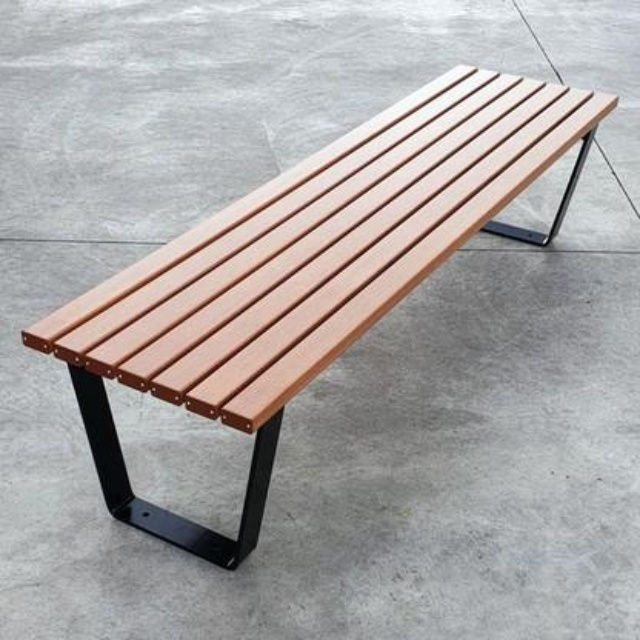obstacle: (40, 31, 625, 586)
